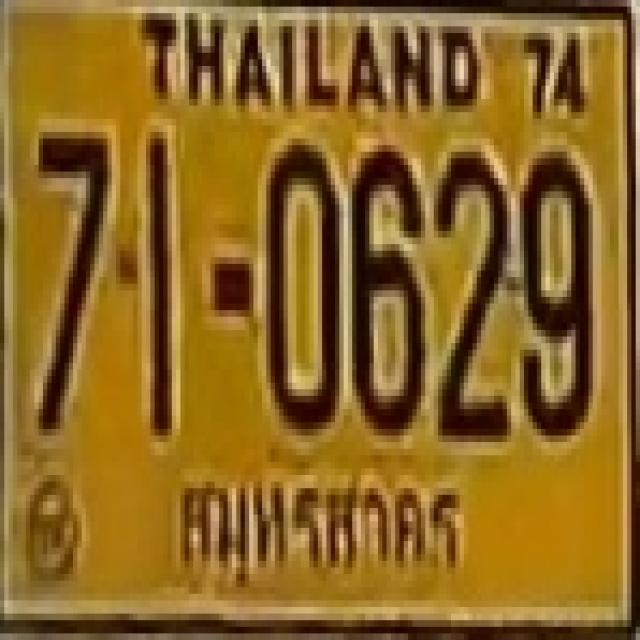0: (262, 139, 335, 422)
1: (144, 132, 170, 429)
2: (432, 145, 504, 436)
6: (348, 142, 421, 425)
7: (34, 125, 108, 429)
9: (520, 145, 588, 429)
SKN: (168, 449, 472, 615)
